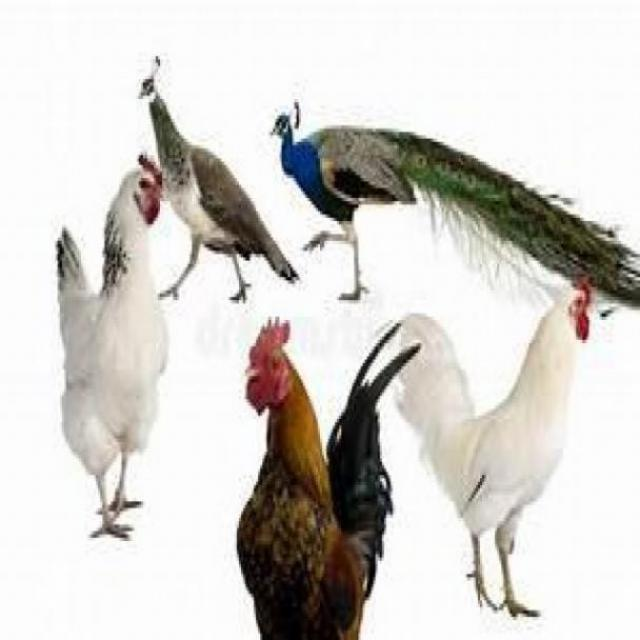Chicken: (392, 277, 591, 620), (236, 316, 422, 640), (56, 149, 171, 545)
